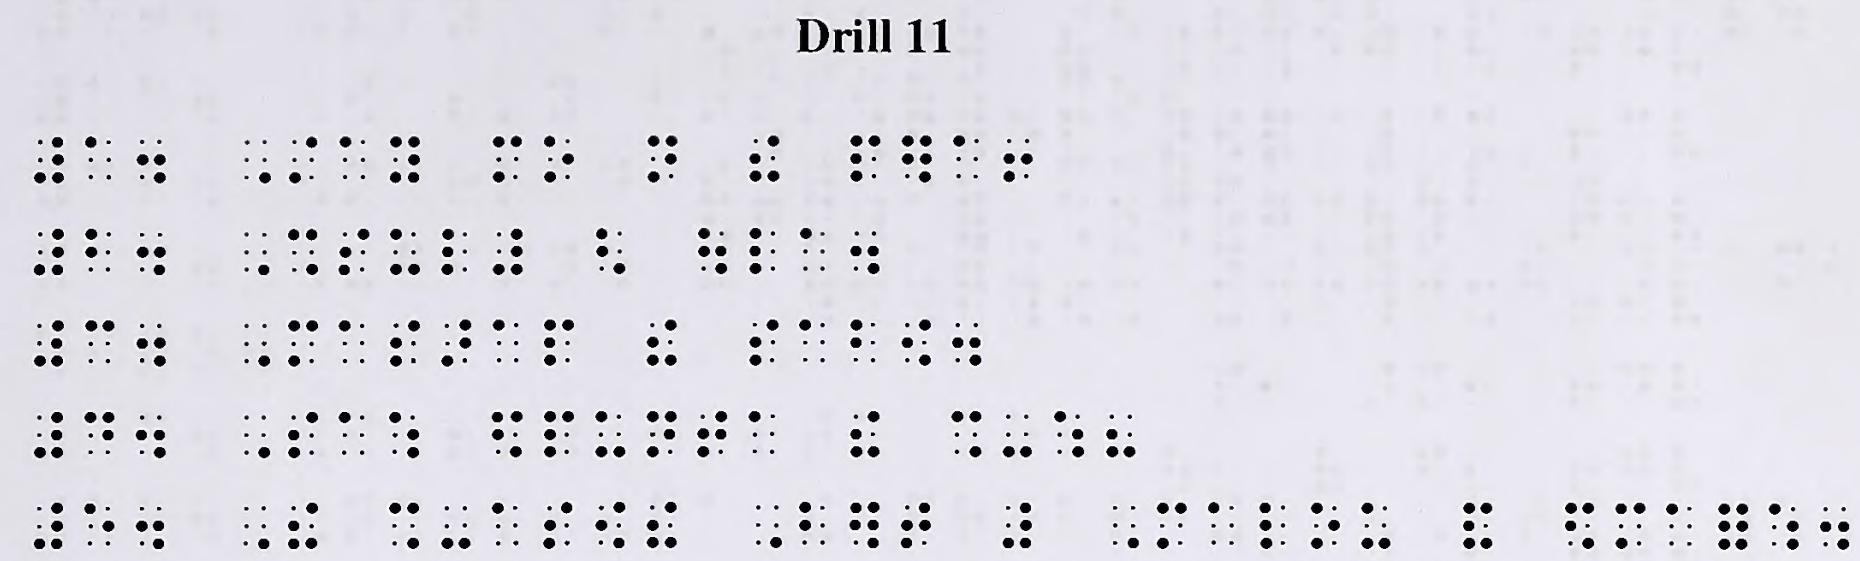1: (84, 135, 115, 186)
2: (84, 227, 113, 277)
3: (83, 316, 116, 367)
4: (84, 410, 115, 460)
5: (83, 502, 115, 550)
B: (798, 502, 826, 546)
M: (288, 318, 320, 367), (1156, 501, 1188, 550)
S: (287, 410, 318, 459)
a: (951, 132, 983, 184), (492, 317, 523, 368), (337, 132, 366, 186), (1206, 500, 1237, 547), (338, 409, 367, 458), (338, 318, 368, 365), (490, 501, 520, 547), (798, 318, 827, 365), (800, 227, 827, 274), (748, 410, 776, 455), (1666, 503, 1693, 548)
an: (1767, 502, 1799, 551), (388, 410, 419, 459)
anak: (1053, 409, 1085, 458)
ang: (748, 132, 784, 185), (645, 319, 679, 366), (288, 502, 319, 550), (850, 411, 880, 458), (647, 502, 677, 548)
ar: (439, 318, 473, 368)
at: (491, 227, 526, 278), (1002, 502, 1032, 550)
aw: (901, 318, 932, 367), (595, 501, 625, 548)
ay: (1462, 501, 1494, 549)
b: (850, 319, 878, 364)
capital: (241, 134, 273, 186), (239, 226, 271, 277), (241, 411, 271, 459), (1110, 504, 1140, 550), (242, 322, 272, 367), (242, 505, 270, 551), (755, 503, 782, 548)
er: (901, 132, 933, 185), (849, 501, 880, 550)
ibig: (287, 134, 319, 186)
l: (747, 226, 778, 275), (440, 227, 470, 276), (1259, 502, 1287, 549)
m: (492, 133, 522, 185), (1615, 503, 1644, 549)
mag: (286, 224, 319, 279), (950, 410, 983, 458), (389, 502, 419, 550)
mahal: (1717, 503, 1749, 551)
n: (647, 409, 676, 458)
nag: (491, 409, 522, 459), (1564, 502, 1595, 549)
ng: (593, 227, 627, 275)
ngayon: (646, 132, 678, 184)
number: (29, 498, 68, 554), (32, 222, 66, 279), (32, 315, 67, 370), (30, 409, 66, 462), (32, 132, 66, 186)
o: (543, 132, 575, 184), (1311, 501, 1341, 549)
p: (849, 132, 882, 185), (543, 318, 575, 366), (543, 411, 575, 458)
s: (337, 225, 372, 278), (387, 318, 423, 368), (747, 319, 779, 368), (543, 502, 572, 550)
t: (698, 411, 728, 458), (901, 502, 931, 549)
tu: (696, 224, 728, 274)
u: (388, 227, 421, 276), (594, 410, 626, 459), (1360, 502, 1390, 550)
y: (388, 132, 420, 187)
